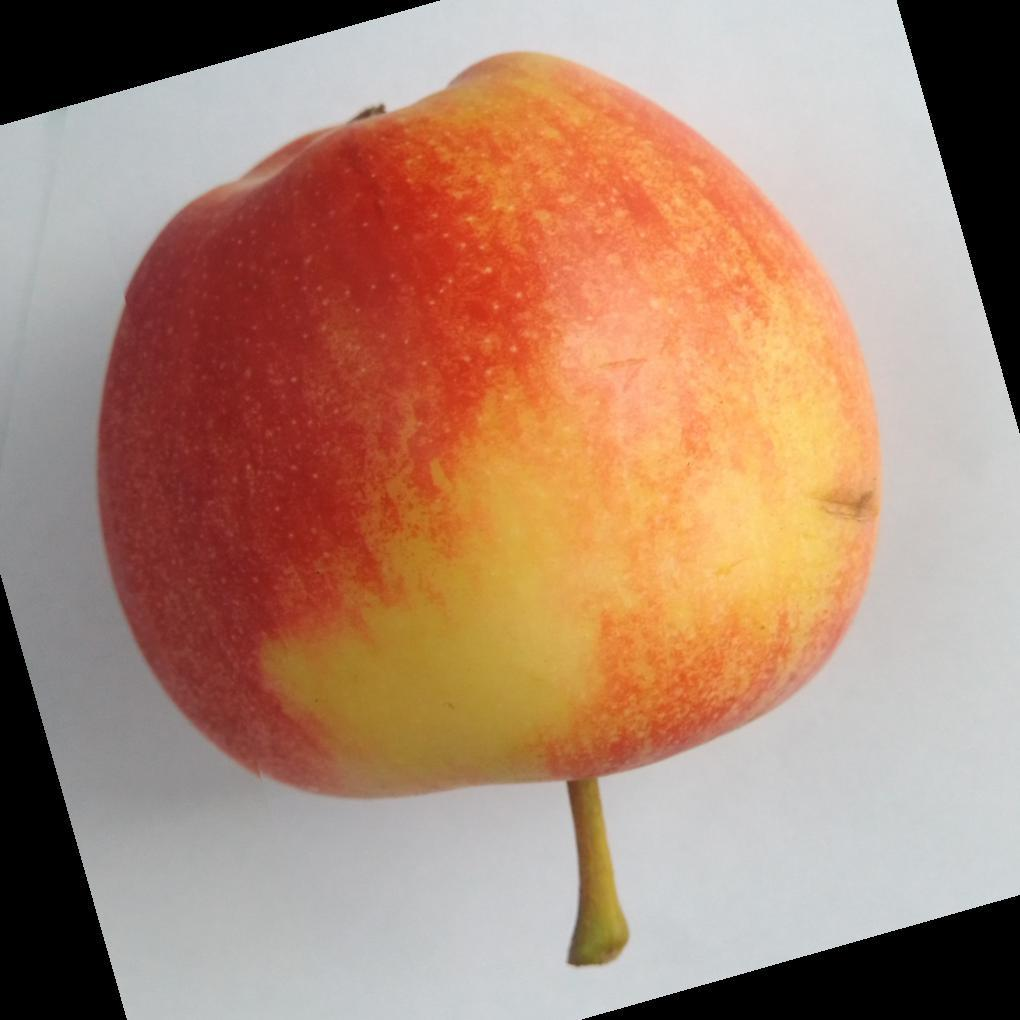FreshGuava: (95, 52, 883, 806)
